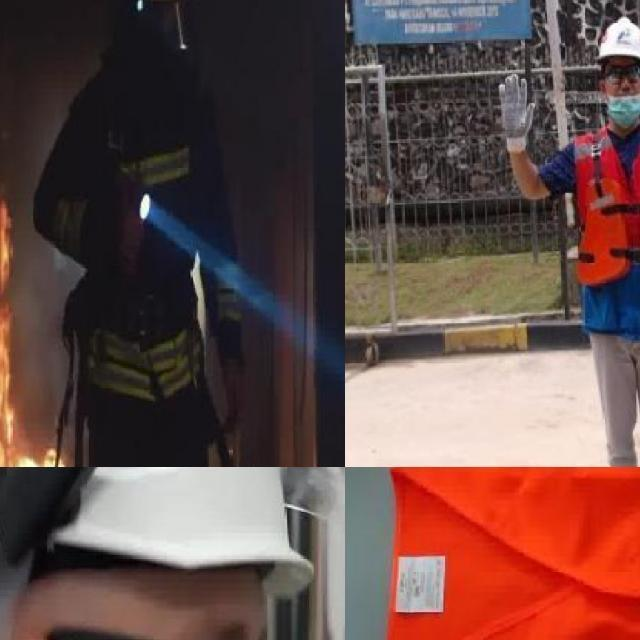apron: (497, 72, 536, 158)
